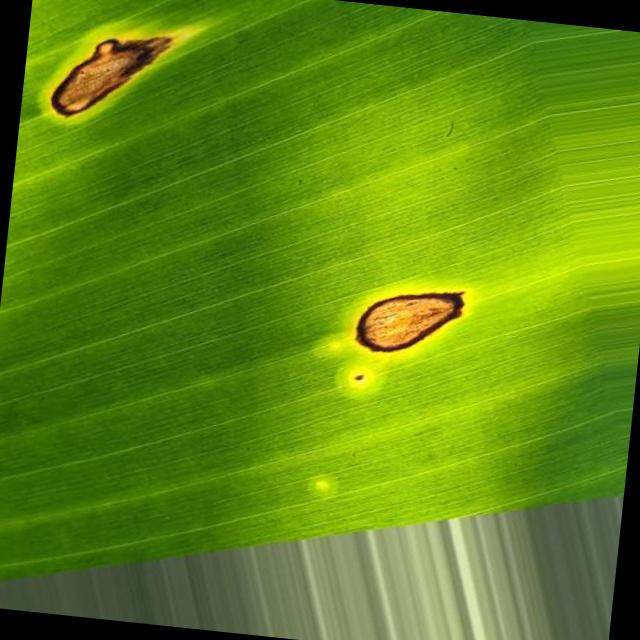Banana_Black_Sigatoka: (286, 228, 536, 408), (15, 0, 184, 179)
